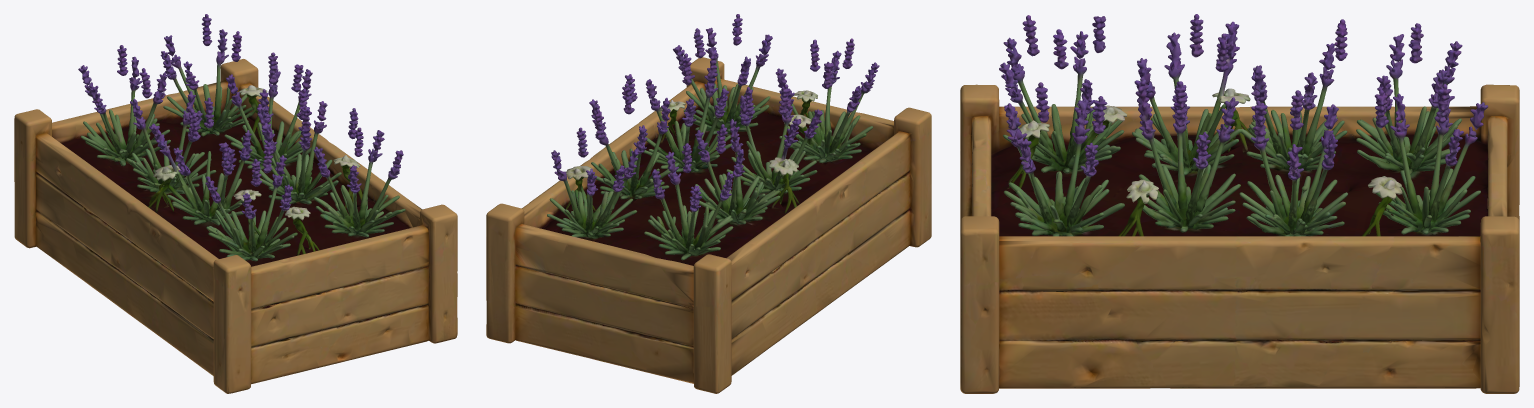
File: bed.glb
The picture shows the model from 3 angles, left to right: view 1: azimuth 30°, elevation 25°; view 2: azimuth 150°, elevation 25°; view 3: azimuth 270°, elevation 25°; orthographic projection. The views are drawn at different scales.
Parts seen in each view (by area): view 1: tripo_node_1f1436a3-7e8c-4a00-9ea6-7d932a2f2155; view 2: tripo_node_1f1436a3-7e8c-4a00-9ea6-7d932a2f2155; view 3: tripo_node_1f1436a3-7e8c-4a00-9ea6-7d932a2f2155.
Part boxes in pixels (x1,y1,x2,y2): tripo_node_1f1436a3-7e8c-4a00-9ea6-7d932a2f2155: (14, 14, 457, 393); tripo_node_1f1436a3-7e8c-4a00-9ea6-7d932a2f2155: (486, 14, 931, 393); tripo_node_1f1436a3-7e8c-4a00-9ea6-7d932a2f2155: (960, 14, 1519, 393).
Size of the model in its own units: 0.4121 by 0.3498 by 0.6582.
Materials: 1 (1 with a texture image).
